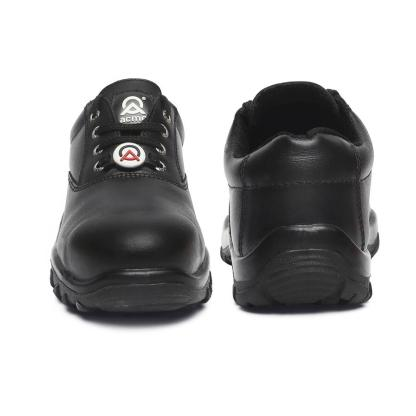bota: (46, 74, 215, 319), (219, 74, 384, 318)
